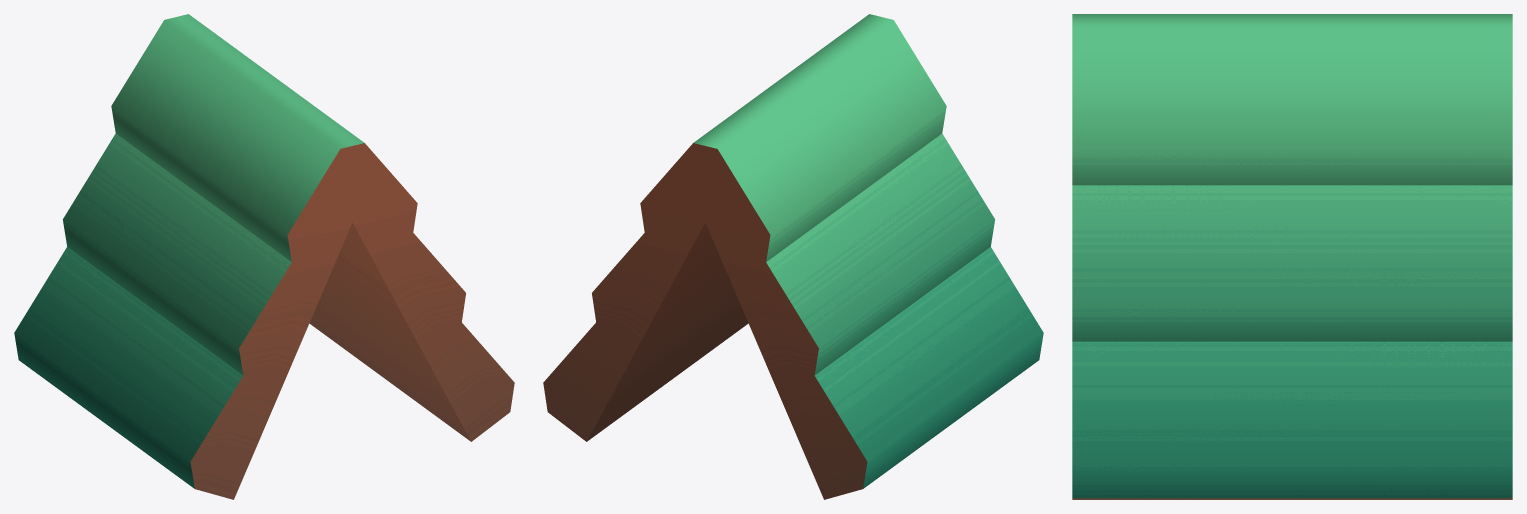
File: cabin_roof_point.glb
The picture shows the model from 3 angles, left to right: view 1: azimuth 30°, elevation 25°; view 2: azimuth 150°, elevation 25°; view 3: azimuth 270°, elevation 25°; orthographic projection. The views are drawn at different scales.
Parts seen in each view (by area): view 1: cabin-roof-point; view 2: cabin-roof-point; view 3: cabin-roof-point.
Part boxes in pixels (left/top/right/bottom): cabin-roof-point: left=14, top=14, right=514, bottom=499; cabin-roof-point: left=543, top=14, right=1043, bottom=499; cabin-roof-point: left=1072, top=14, right=1512, bottom=499.
Bounding box in the file's own units: 1.49 × 1.42 × 1.4.
1 material, 1 textured.
